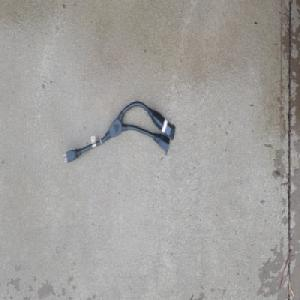Wire: (61, 100, 176, 166)
